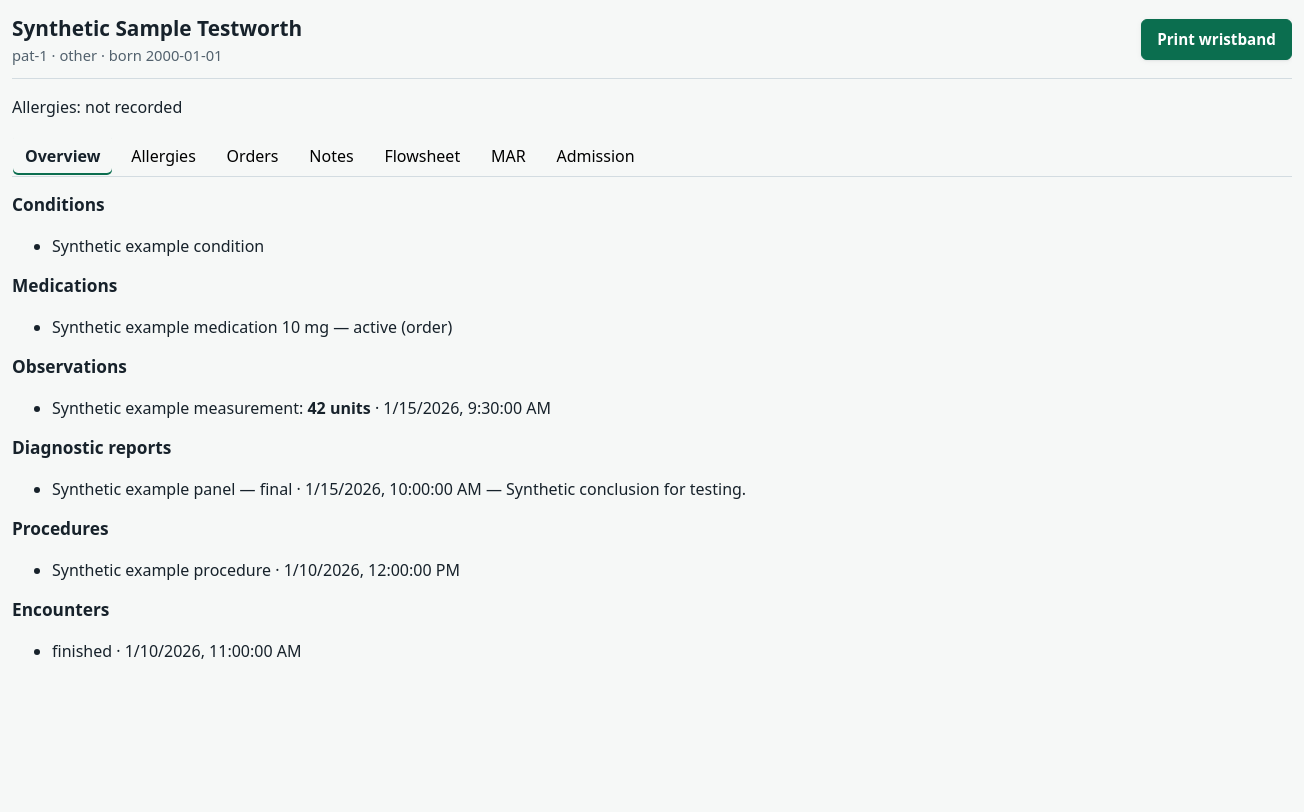
Test: Barcode label printing (Phase 15, scope H) › chart: a 404 label fetch surfaces the server detail inline, never a silent no-op
Click the button "Print wristband": (1216, 39) [1141,19,1292,60]
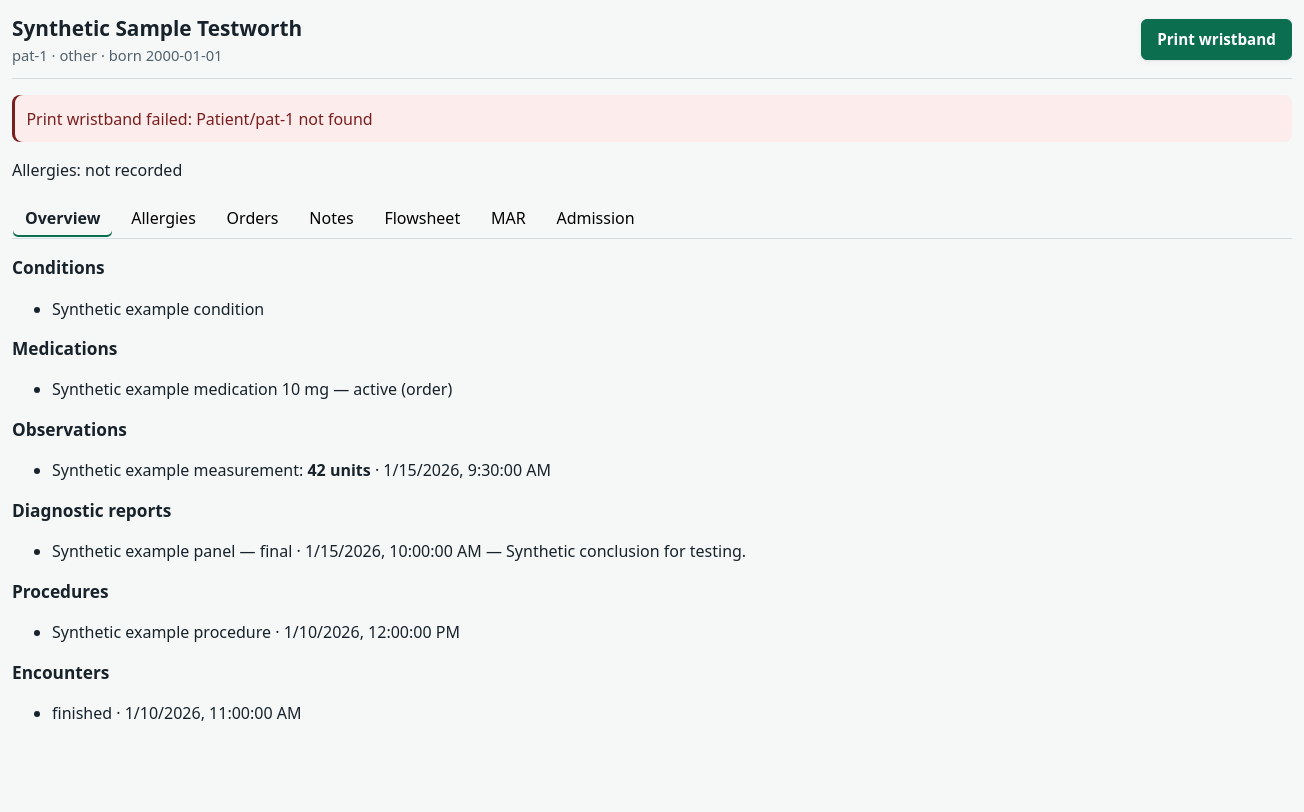
Now the text "Print wristband failed: Patient/pat-1 not found" is shown, box [12,95,1292,142]
